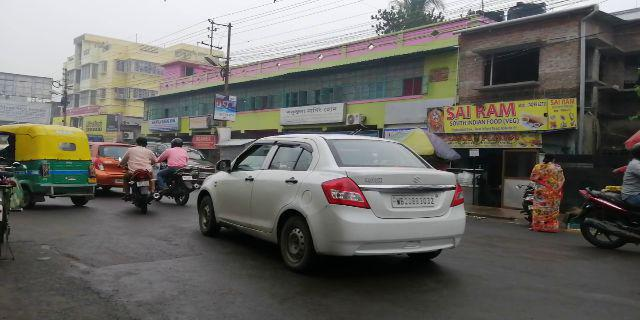Autorickshaw: (9, 123, 94, 214)
Car: (195, 138, 473, 264)
Motorbike: (120, 134, 159, 213), (160, 135, 194, 210)
